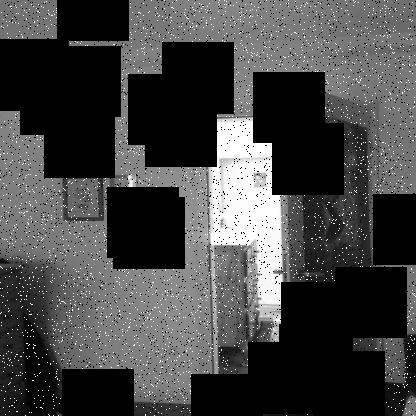Porte: (192, 77, 389, 415)
